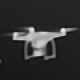plane: (5, 23, 80, 60)
